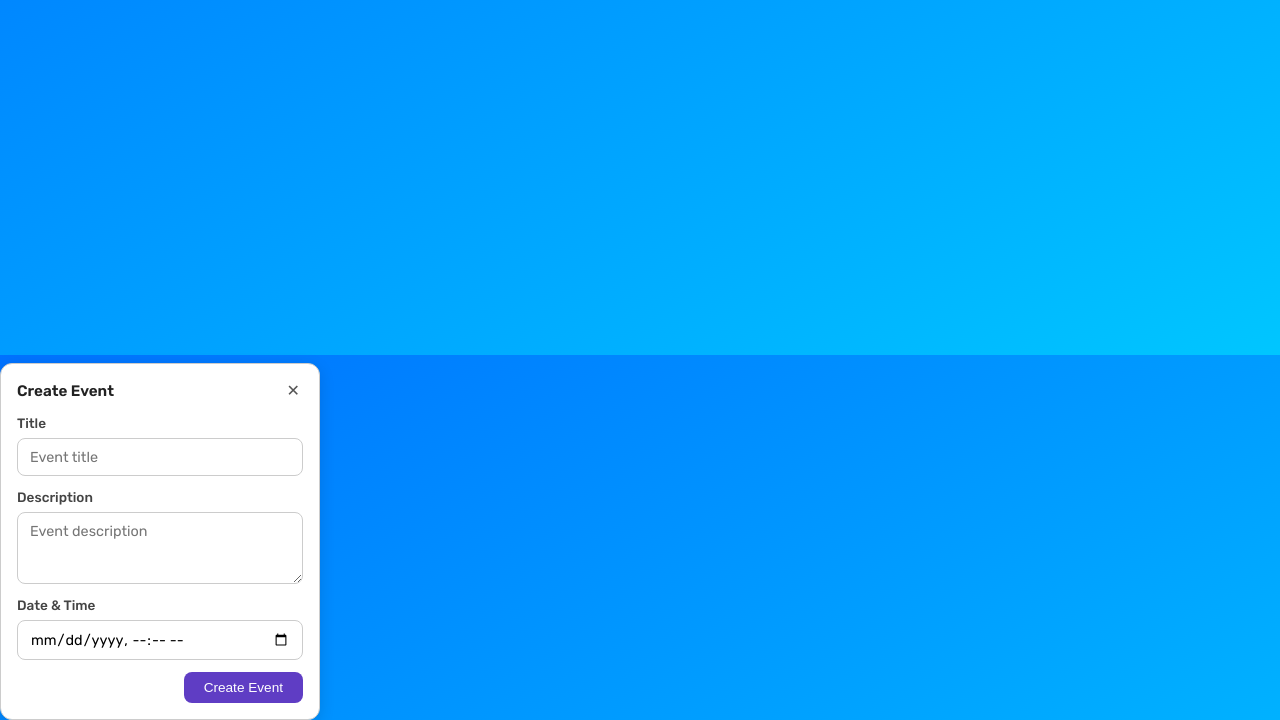
CreateEventForm › shows the real backend error message when creation fails
(page scrolled)
Type "Go meetup" into the field labelled "Title".
click(160, 457); type("Go meetup")  # box [17, 438, 303, 476]
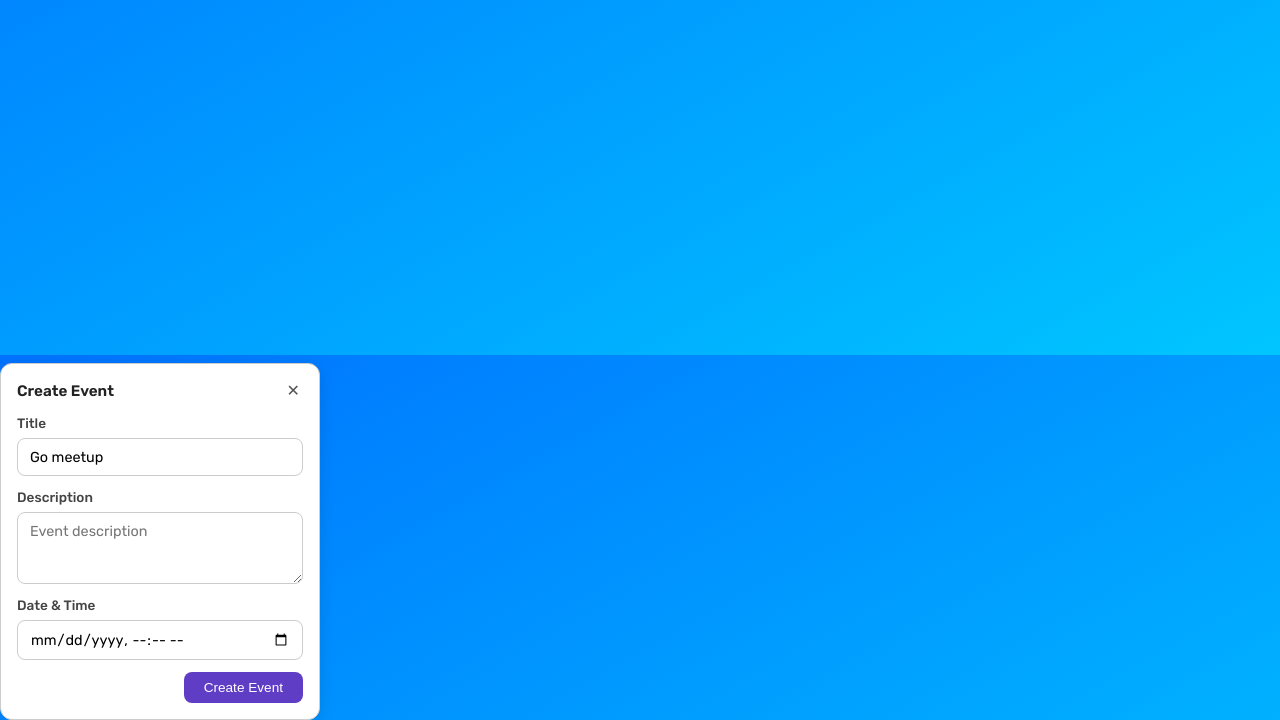
Type "Monthly meetup" into the text box labelled "Description".
click(160, 548); type("Monthly meetup")  # box [17, 512, 303, 584]
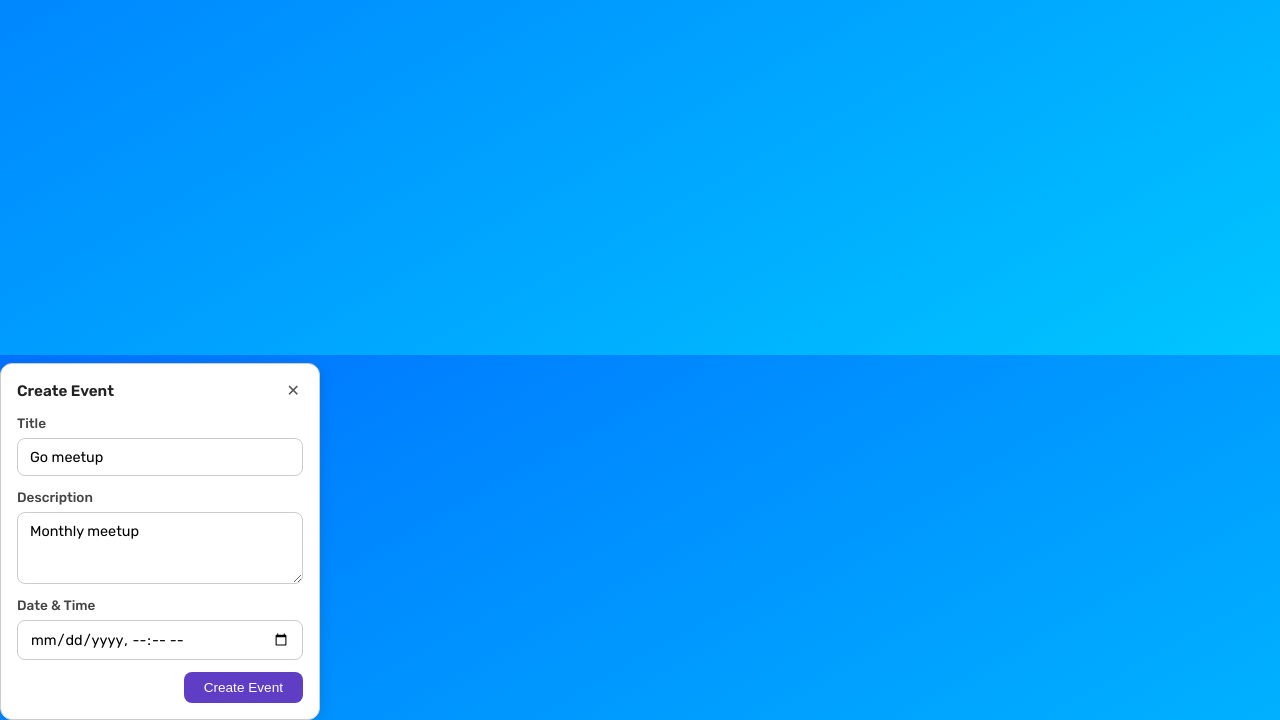
Type "2026-09-01T18:00" into the field labelled "Date & Time".
click(160, 640); type("2026-09-01T18:00")  # box [17, 620, 303, 660]
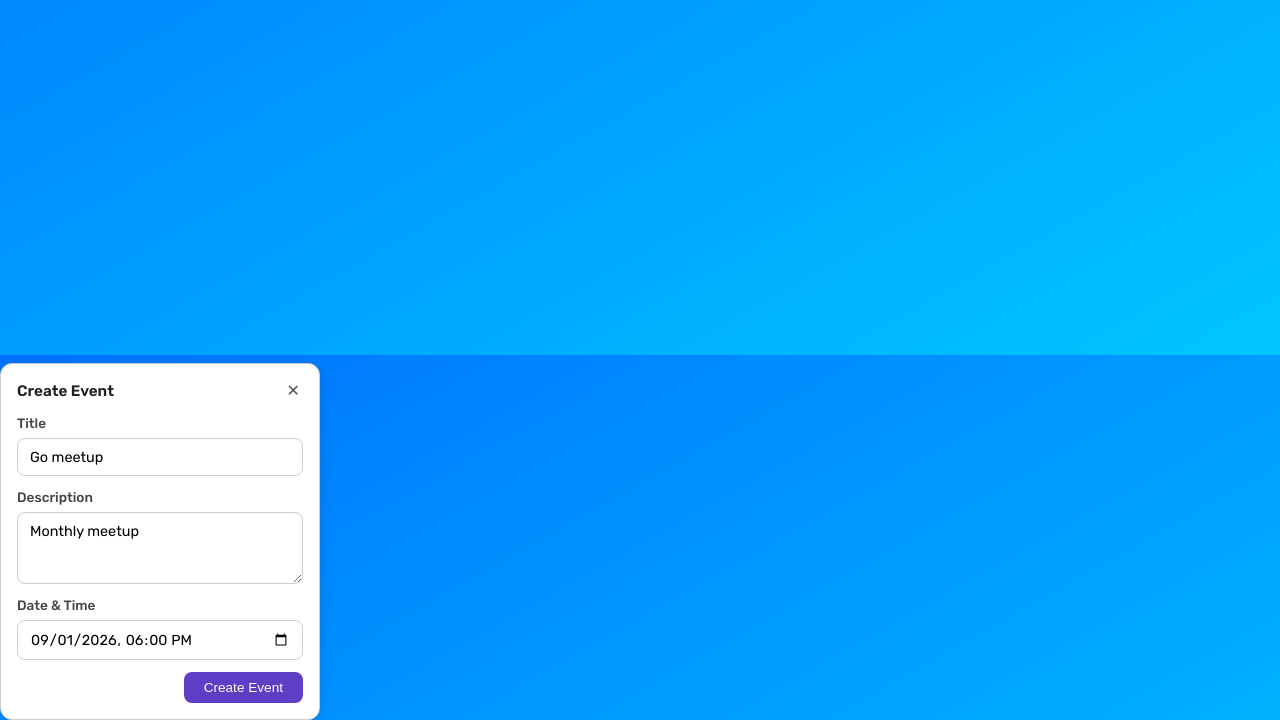
Click the button "Create Event".
click(243, 688)  # box [184, 672, 303, 703]
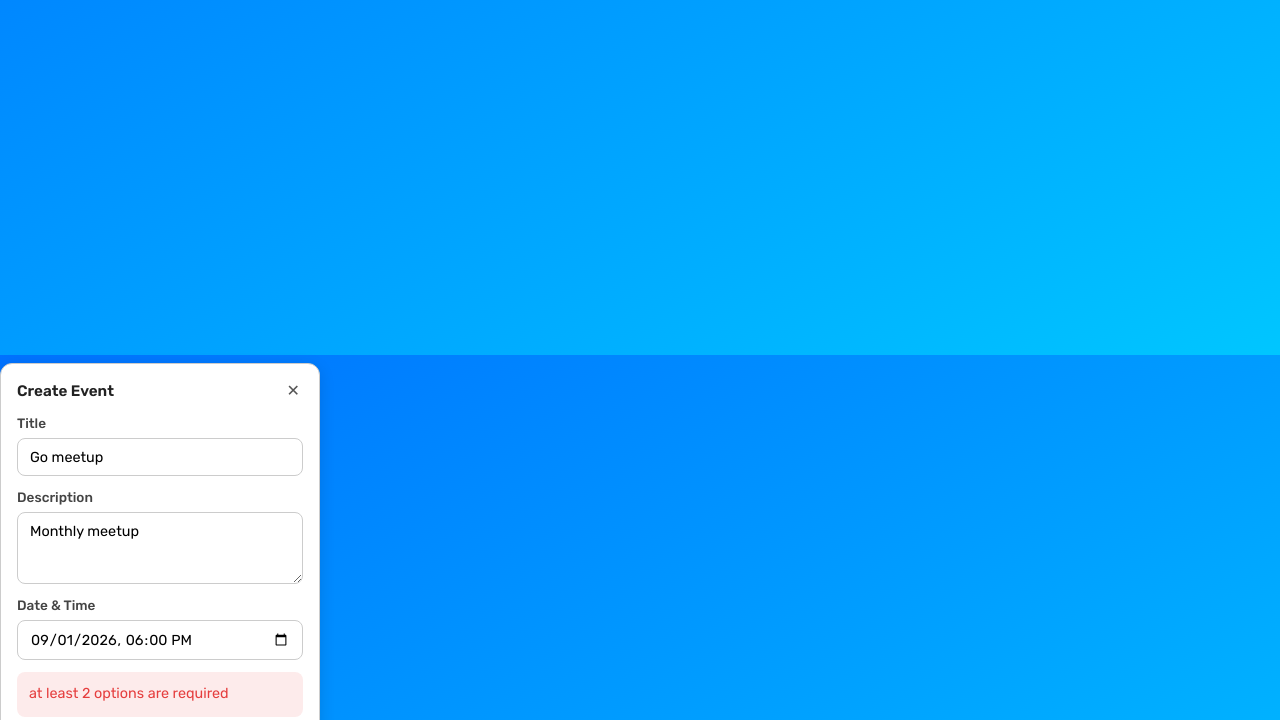
Now the text "at least 2 options are required" is shown, box [17, 672, 303, 717]
